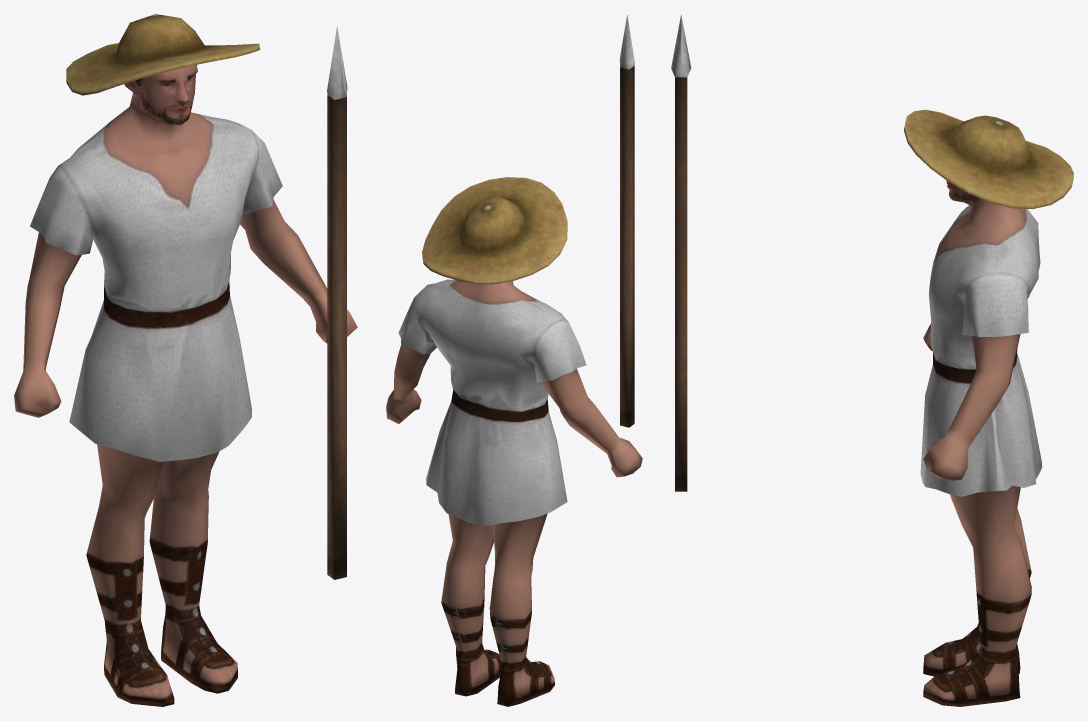
The model's file is 204-militia.glb.
3 views of the same model, side by side, from view 1: azimuth 30°, elevation 25°; view 2: azimuth 150°, elevation 25°; view 3: azimuth 270°, elevation 25° (orthographic). The views are drawn at different scales.
Size of the model in its own units: 1.14 by 2.5 by 1.36.
3 materials, 3 textured.
